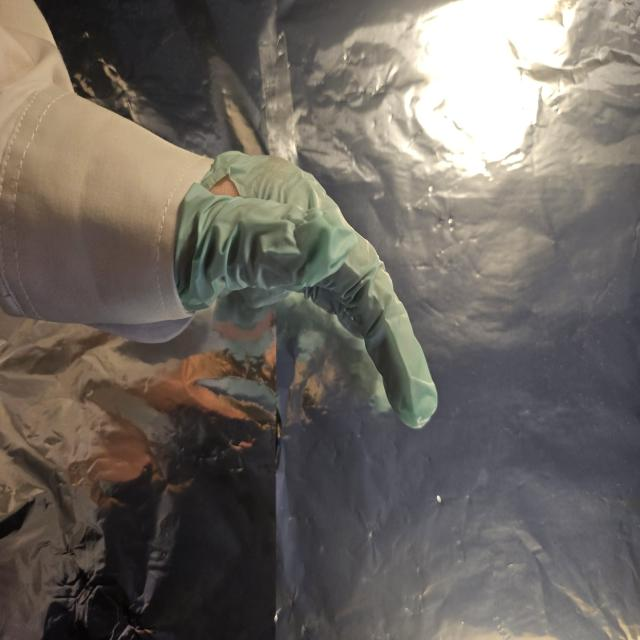gloves_damaged: (170, 146, 438, 434)
